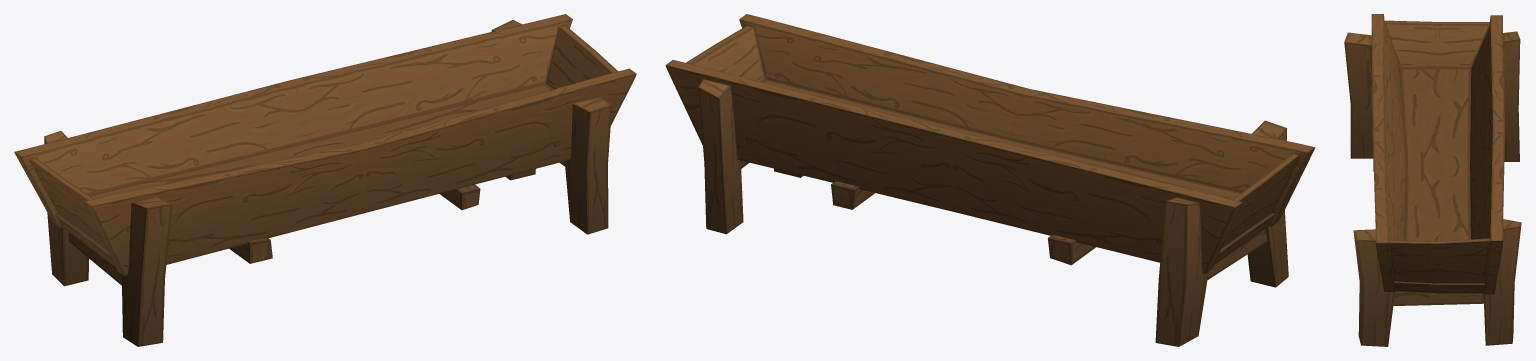
File: WaterTrough_MESH_02.fbx
3 renders of one model, left to right at view 1: azimuth 30°, elevation 25°; view 2: azimuth 150°, elevation 25°; view 3: azimuth 270°, elevation 25°, orthographic. The views are drawn at different scales.
Visible parts, largest first — view 1: WaterTrough_MESH_01; view 2: WaterTrough_MESH_01; view 3: WaterTrough_MESH_01.
Boxes of the visible parts, x1,y1,x2,y2 form: WaterTrough_MESH_01: [14, 14, 636, 346]; WaterTrough_MESH_01: [665, 14, 1315, 346]; WaterTrough_MESH_01: [1344, 14, 1521, 346].
Size of the model in its own units: 544 by 135 by 178.
